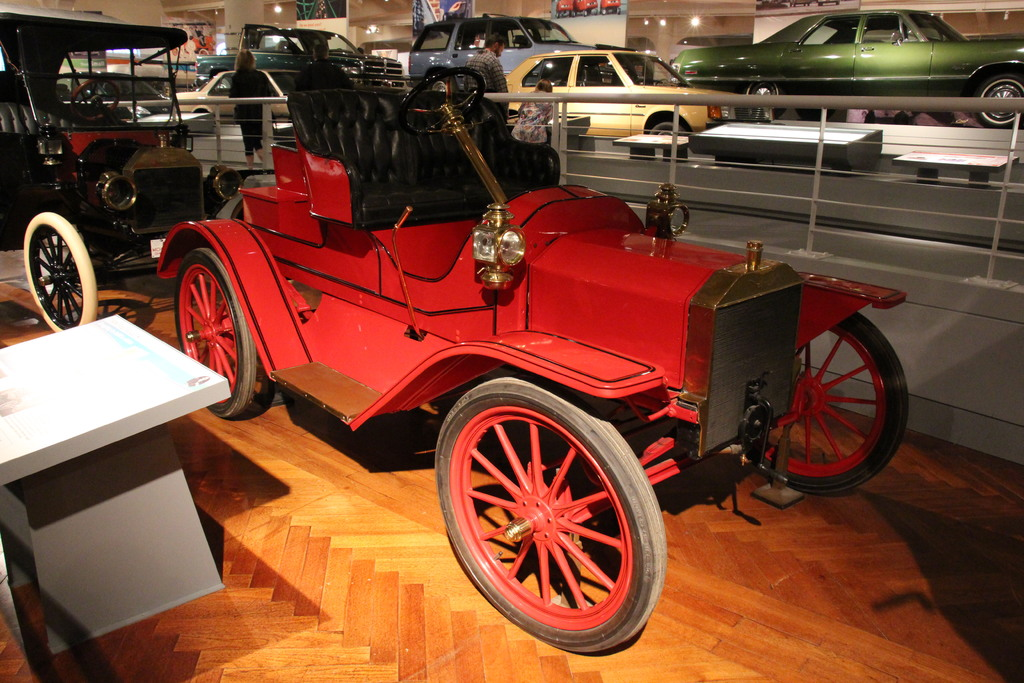Car: (0, 0, 1023, 660)
